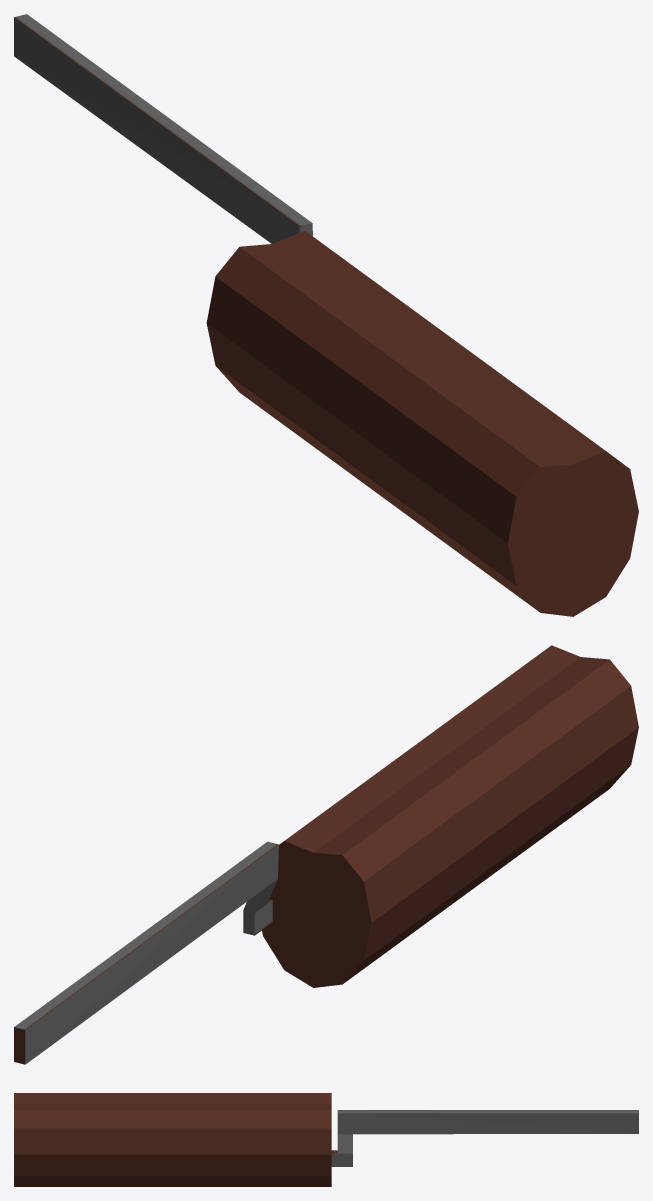
File: ForEnd.obj
The picture shows the model from 3 angles, top to bottom: view 1: azimuth 30°, elevation 25°; view 2: azimuth 150°, elevation 25°; view 3: azimuth 270°, elevation 25°; orthographic projection. The views are drawn at different scales.
Parts seen in each view (by area): view 1: Rifle_Forend; view 2: Rifle_Forend; view 3: Rifle_Forend.
Boxes of the visible parts, <box> form: Rifle_Forend: <box>14,14,638,616</box>; Rifle_Forend: <box>14,645,638,1064</box>; Rifle_Forend: <box>14,1093,638,1186</box>.
Bounding box in the file's own units: 0.3603 × 0.4144 × 2.82.
Materials: 1 (1 with a texture image).
